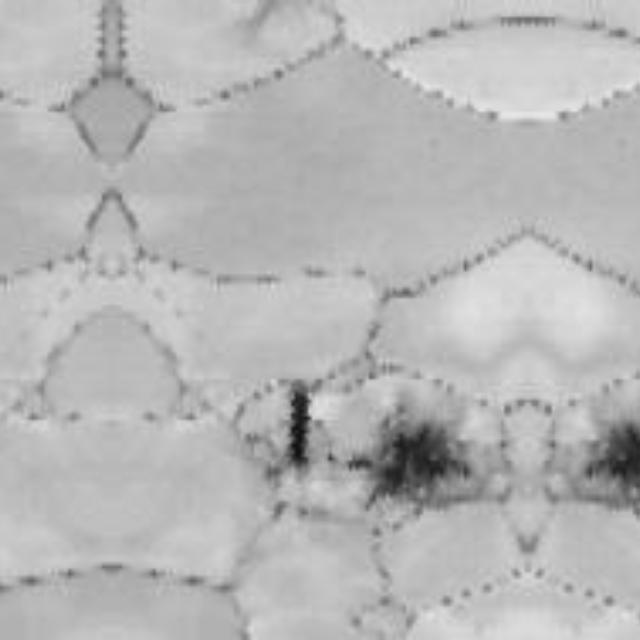good_void: (366, 407, 475, 519), (583, 417, 640, 519), (287, 386, 312, 468), (345, 453, 372, 475), (325, 452, 336, 465)
